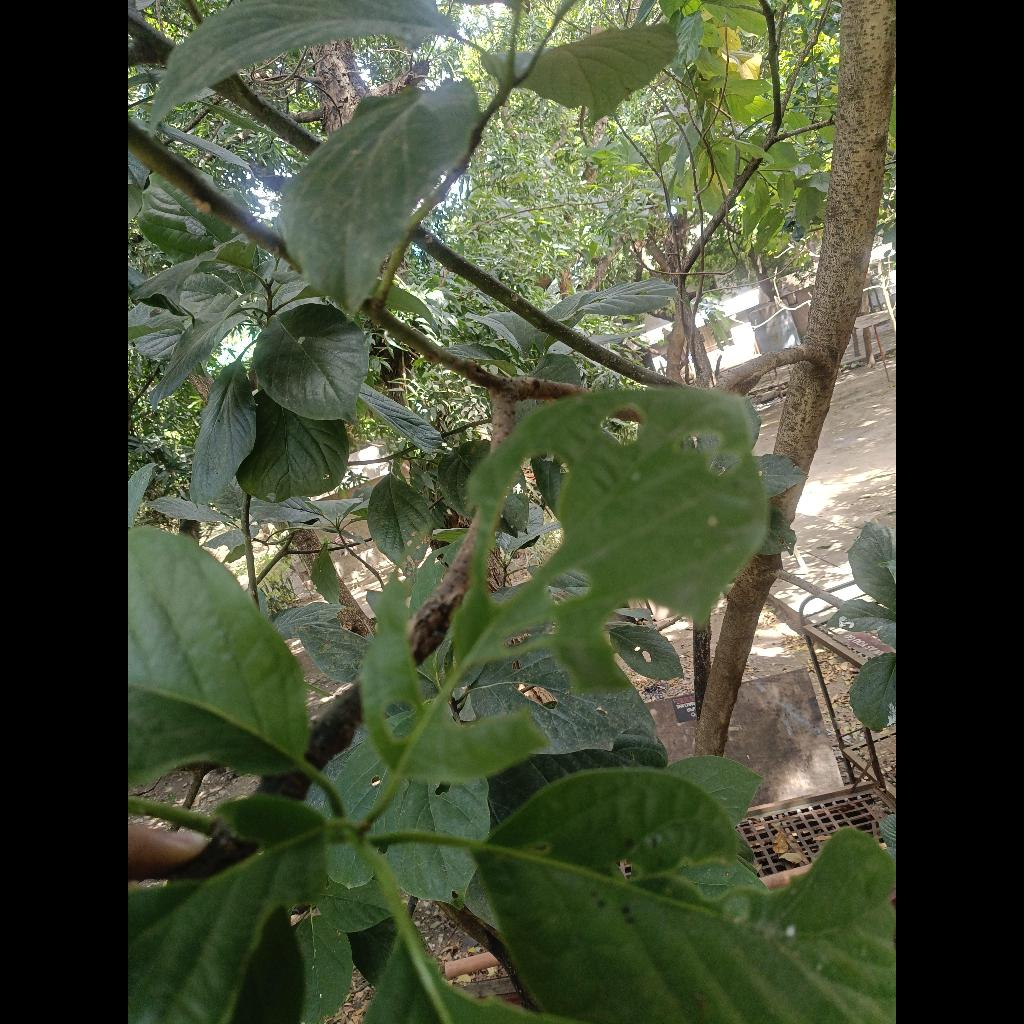plaga: (359, 388, 768, 782)
